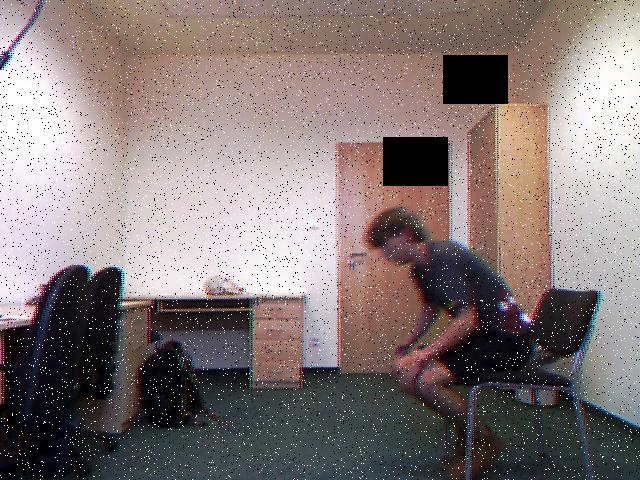near-fall: (355, 198, 548, 480)
